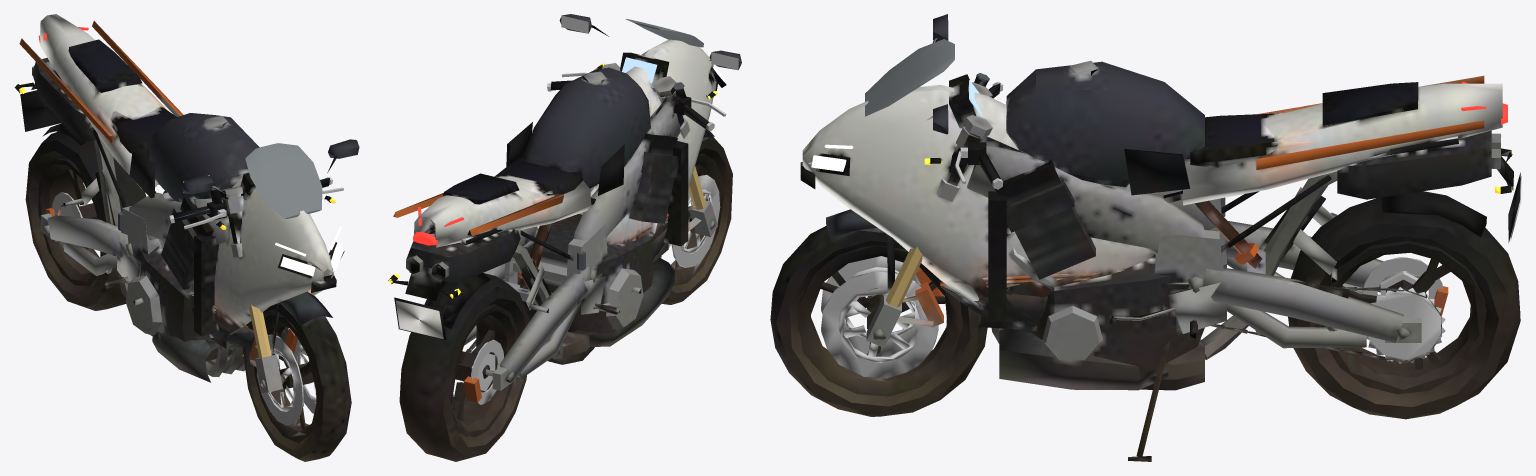
File: harbor-motorcycle.glb
3 views of the same model, side by side, from view 1: azimuth 30°, elevation 25°; view 2: azimuth 150°, elevation 25°; view 3: azimuth 270°, elevation 25° (orthographic). The views are drawn at different scales.
Visible parts, largest first — view 1: body, wheel_R_mesh, wheel_F_mesh, fittings, fork_mesh, wheel_F_fittings, fork_fittings, wheel_R_fittings; view 2: body, wheel_R_mesh, wheel_F_mesh, fittings, fork_mesh, wheel_F_fittings, wheel_R_fittings, fork_fittings; view 3: body, wheel_R_mesh, wheel_F_mesh, wheel_F_fittings, fork_mesh, wheel_R_fittings, fittings, fork_fittings, kickstand_mesh.
Part boxes in pixels (bbox=[...]): body: bbox=[14, 14, 359, 382]; wheel_R_mesh: bbox=[25, 132, 146, 310]; wheel_F_mesh: bbox=[242, 303, 351, 461]; fittings: bbox=[15, 27, 355, 276]; fork_mesh: bbox=[172, 178, 332, 392]; wheel_F_fittings: bbox=[257, 334, 316, 425]; fork_fittings: bbox=[169, 176, 343, 357]; wheel_R_fittings: bbox=[52, 192, 82, 248]; body: bbox=[388, 14, 741, 402]; wheel_R_mesh: bbox=[399, 273, 529, 461]; wheel_F_mesh: bbox=[662, 137, 732, 304]; fittings: bbox=[388, 15, 738, 298]; fork_mesh: bbox=[550, 63, 717, 236]; wheel_F_fittings: bbox=[668, 174, 720, 267]; wheel_R_fittings: bbox=[470, 339, 503, 404]; fork_fittings: bbox=[547, 72, 726, 209]; body: bbox=[800, 14, 1521, 390]; wheel_R_mesh: bbox=[1288, 197, 1520, 419]; wheel_F_mesh: bbox=[770, 225, 987, 416]; wheel_F_fittings: bbox=[821, 256, 938, 378]; fork_mesh: bbox=[826, 76, 1000, 347]; wheel_R_fittings: bbox=[1363, 257, 1445, 363]; fittings: bbox=[811, 39, 1512, 216]; fork_fittings: bbox=[885, 73, 1003, 307]; kickstand_mesh: bbox=[1128, 340, 1170, 461].
Bounding box in the file's own units: 0.7026 × 1.09 × 2.04.
11 materials, 1 textured.
